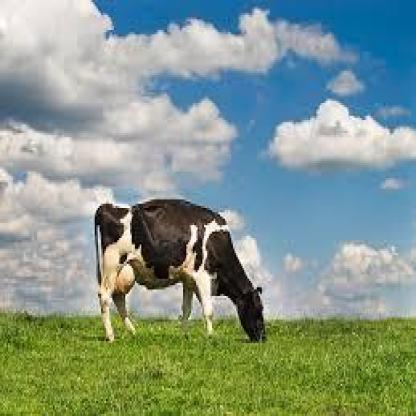cow: (93, 197, 268, 341)
